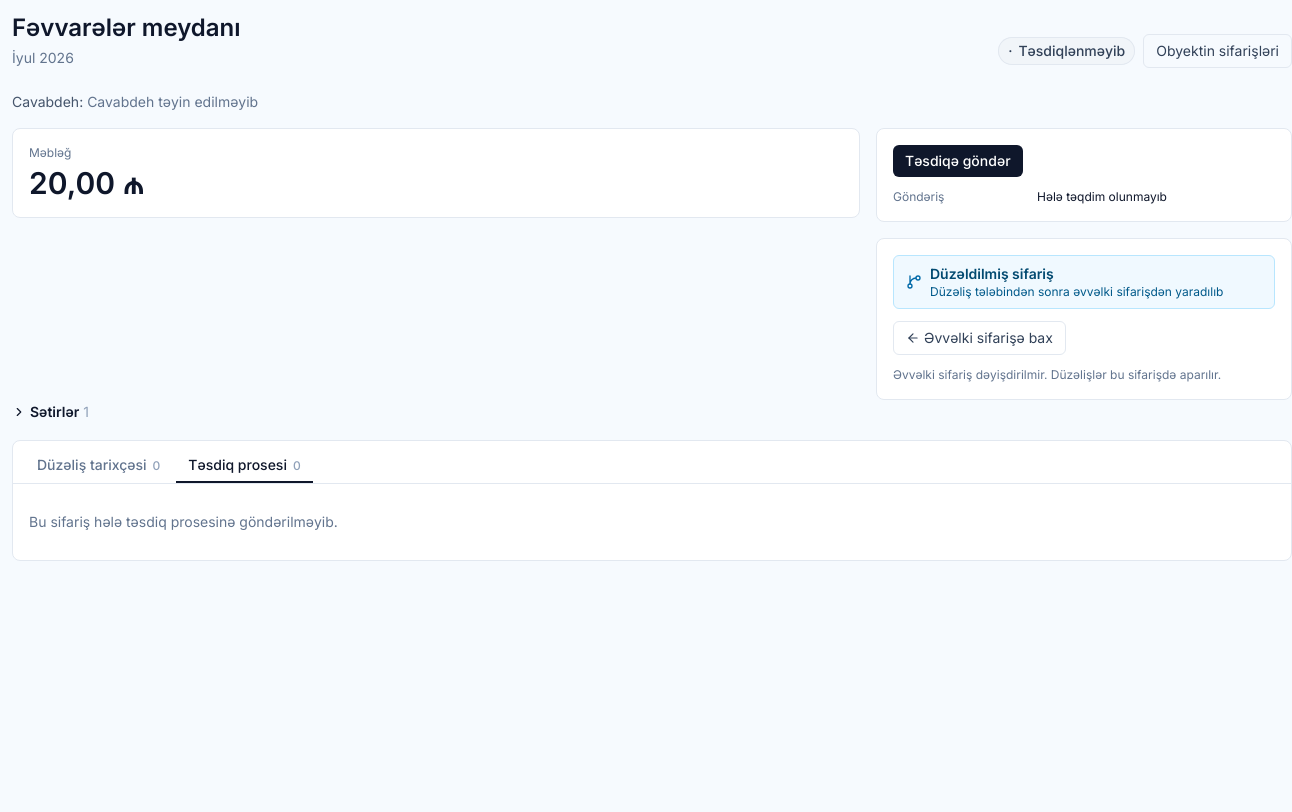
Scenario: the histories › says an untouched correction in business words
expect the heading "Fəvvarələr meydanı" is shown: met, box [12,12,241,44]
Click the tab "Düzəliş tarixçəsi0": (99, 466) [25,449,172,483]
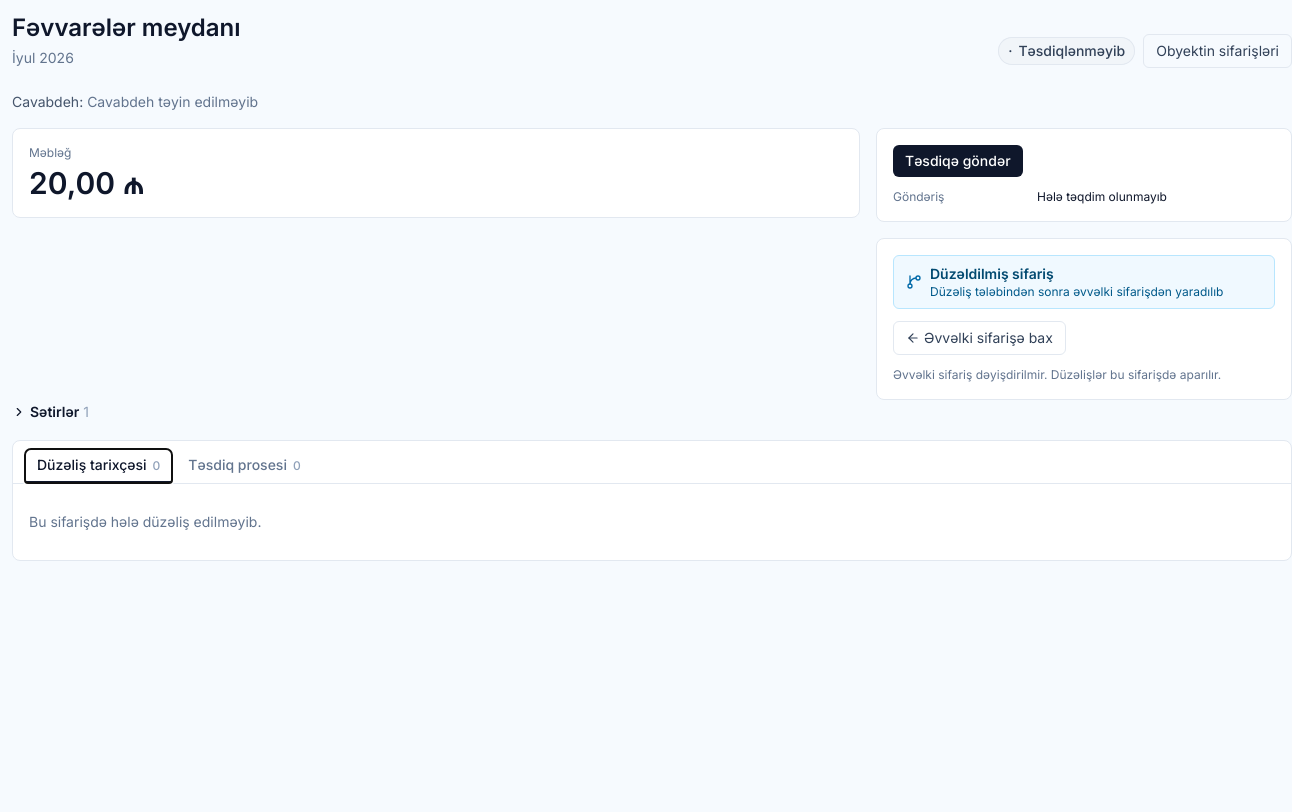
expect the text "Bu sifarişdə hələ düzəliş edilməyib." is shown: met, box [29,513,261,530]
